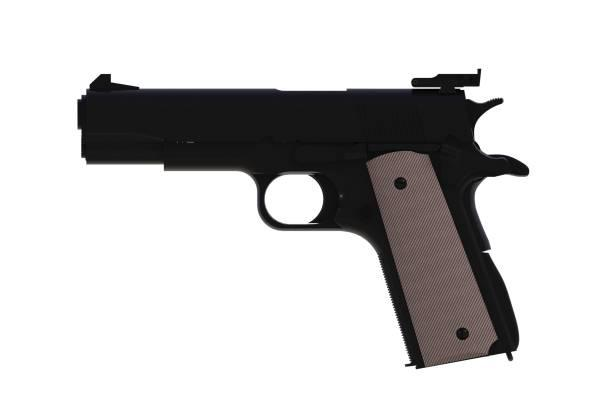weapon: (72, 65, 530, 369)
